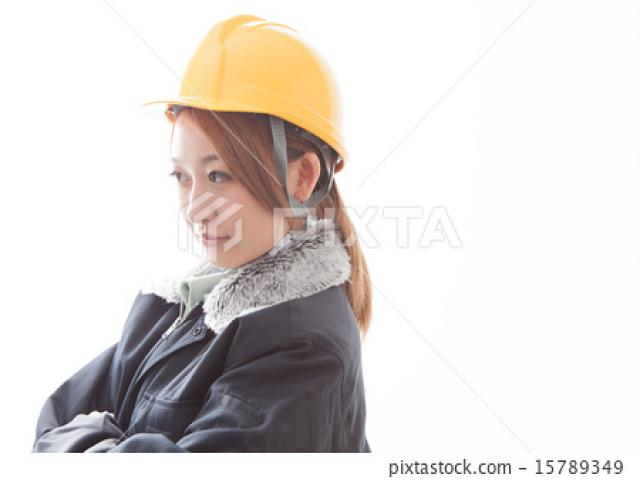Helmet: (133, 8, 354, 178)
